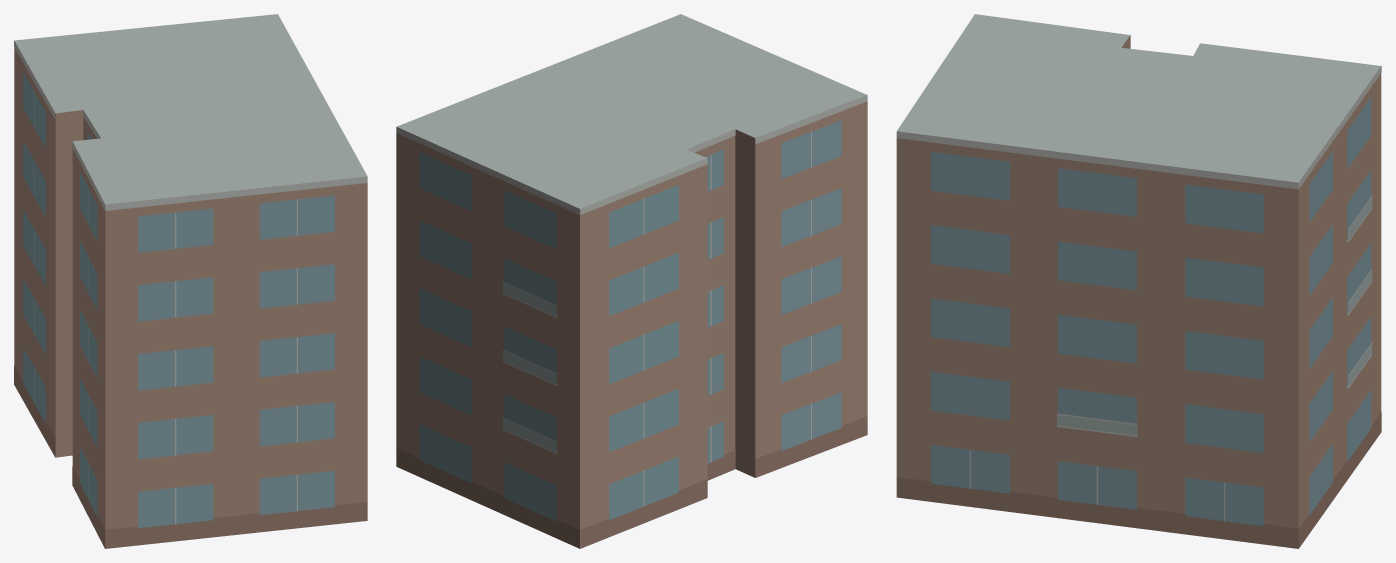
File: survey-upis-33004512.glb
The picture shows the model from 3 angles, left to right: view 1: azimuth 30°, elevation 25°; view 2: azimuth 150°, elevation 25°; view 3: azimuth 270°, elevation 25°; orthographic projection. The views are drawn at different scales.
Visible parts, largest first — view 1: survey-upis-33004512.tmp; view 2: survey-upis-33004512.tmp; view 3: survey-upis-33004512.tmp.
Boxes of the visible parts, left/top/right/bottom form: survey-upis-33004512.tmp: left=14, top=14, right=367, bottom=548; survey-upis-33004512.tmp: left=396, top=14, right=867, bottom=548; survey-upis-33004512.tmp: left=896, top=14, right=1381, bottom=548.
Bounding box in the file's own units: 13.05 × 13.2 × 15.85.
